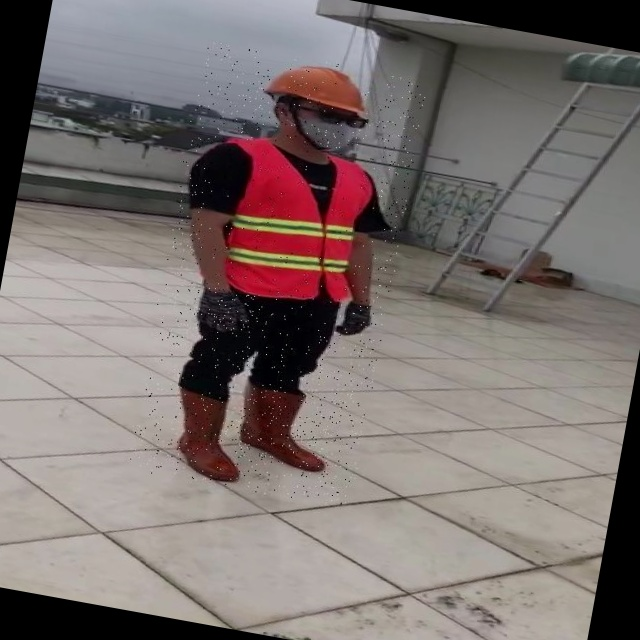boots: (282, 396, 380, 469), (372, 410, 449, 497)
gloves: (392, 306, 441, 353), (268, 296, 306, 334)
vest: (283, 150, 453, 307)
